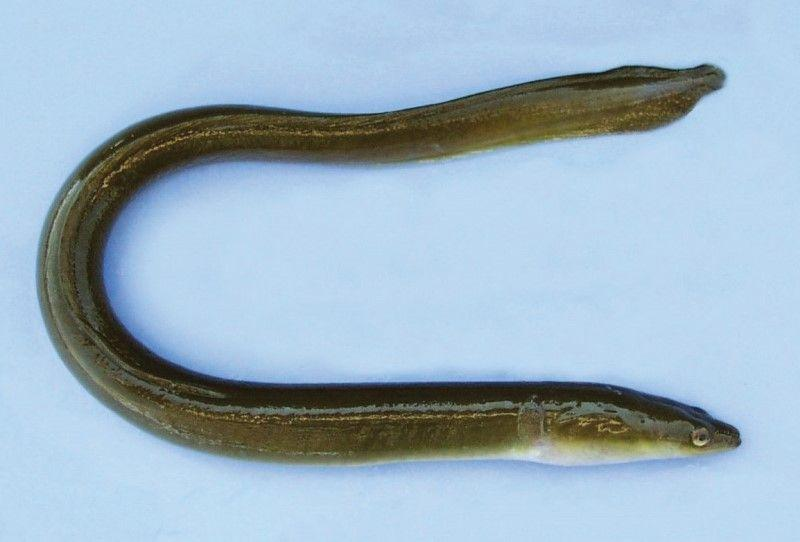Freshwater Eel: (33, 54, 756, 461)
